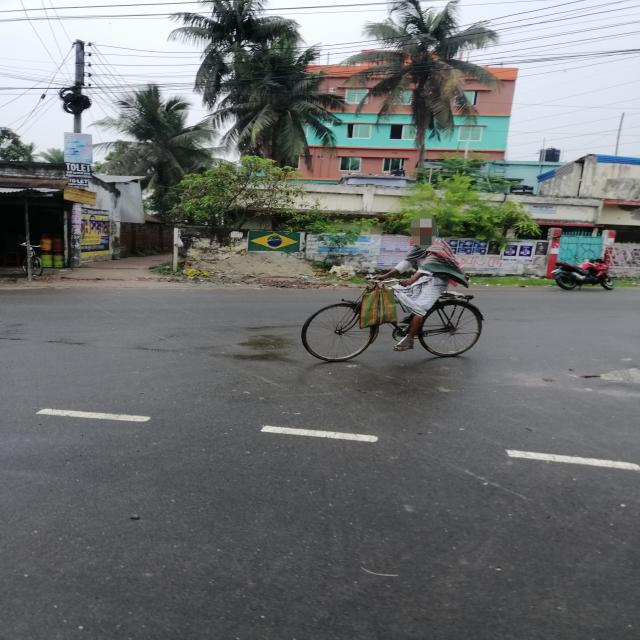Bicycle: (262, 262, 545, 375)
Motorbike: (517, 247, 640, 310)
